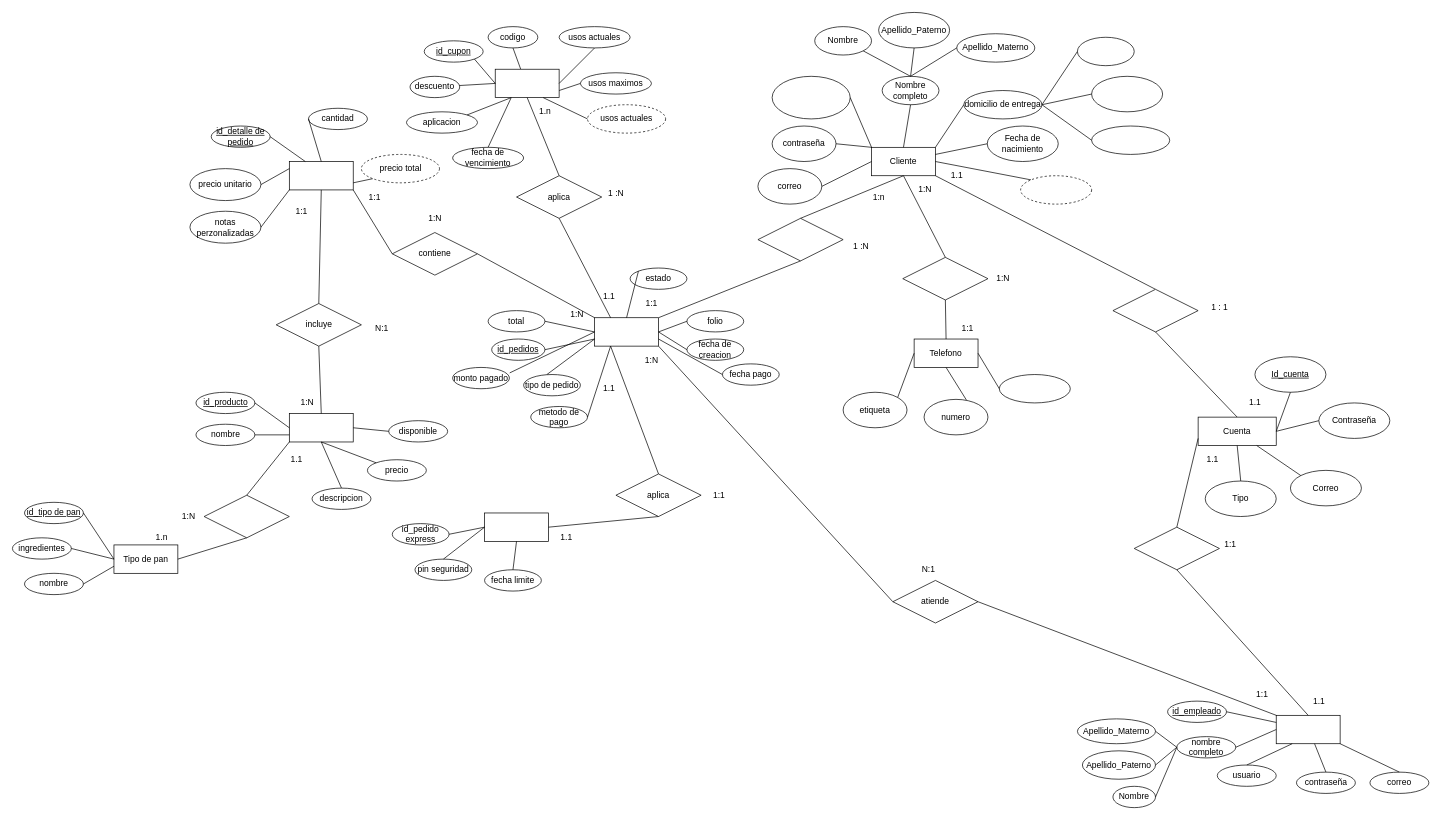
This 1441x820 diagram has some shape labels left out. Here are the shapes that lost their labels. From the top down, the centre of each, then its label:
At [1105,51]: "calle".
At [527,83]: "Cupon".
At [810,97]: "id_cliente".
At [1127,94]: "ciudad".
At [1130,139]: "codigo postal".
At [321,175]: "detalle de pedido".
At [1056,189]: "edad".
At [800,239]: "realiza".
At [945,278]: "registra".
At [1155,310]: "posee".
At [626,331]: "Pedido".
At [1034,388]: "id_telefono".
At [321,427]: "Producto".
At [246,516]: "procesa".
At [516,526]: "Pedido express".
At [1176,548]: "requiere".
At [1308,729]: "Empleado".
